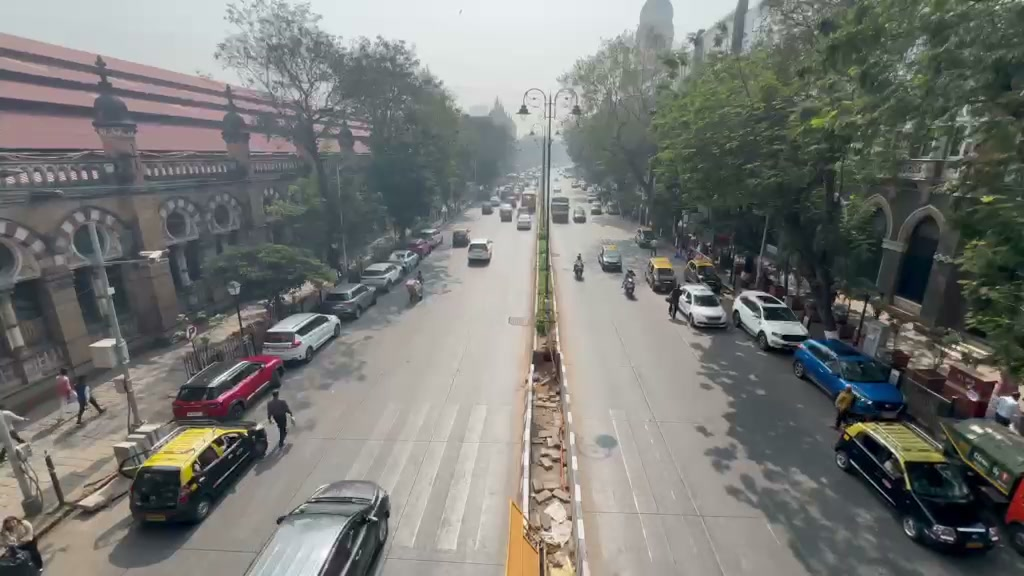car: (833, 418, 1001, 556), (242, 479, 393, 575), (127, 424, 267, 525), (791, 335, 908, 426), (171, 353, 284, 422), (938, 416, 1024, 504), (732, 290, 810, 351), (261, 311, 341, 367), (669, 283, 726, 325), (319, 280, 377, 321), (680, 285, 729, 329), (360, 262, 405, 293), (406, 228, 441, 255), (387, 250, 421, 272), (466, 239, 493, 266), (600, 245, 623, 272), (513, 209, 535, 231), (450, 227, 471, 250), (498, 205, 514, 224)
pedestrian: (266, 393, 293, 450), (74, 379, 90, 423)
truck: (833, 418, 1001, 556), (938, 416, 1024, 551), (646, 255, 678, 295)
